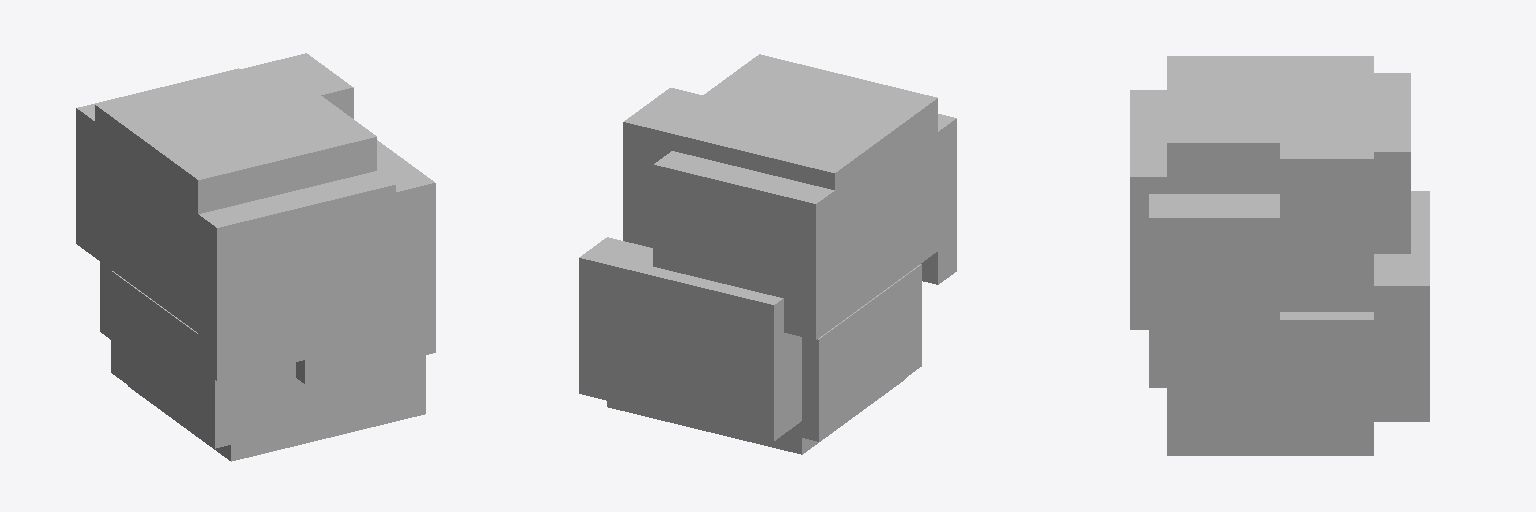
File: boulder.obj
3 views of the same model, side by side, from view 1: azimuth 30°, elevation 25°; view 2: azimuth 150°, elevation 25°; view 3: azimuth 270°, elevation 25° (orthographic).
Visible parts, largest first — view 1: object 1; view 2: object 1; view 3: object 1.
Boxes of the visible parts, x1=… form: object 1: x1=76, y1=53, x2=435, y2=461; object 1: x1=579, y1=54, x2=956, y2=454; object 1: x1=1130, y1=56, x2=1429, y2=455.
Bounding box in the file's own units: 1.4 × 1.7 × 1.6.